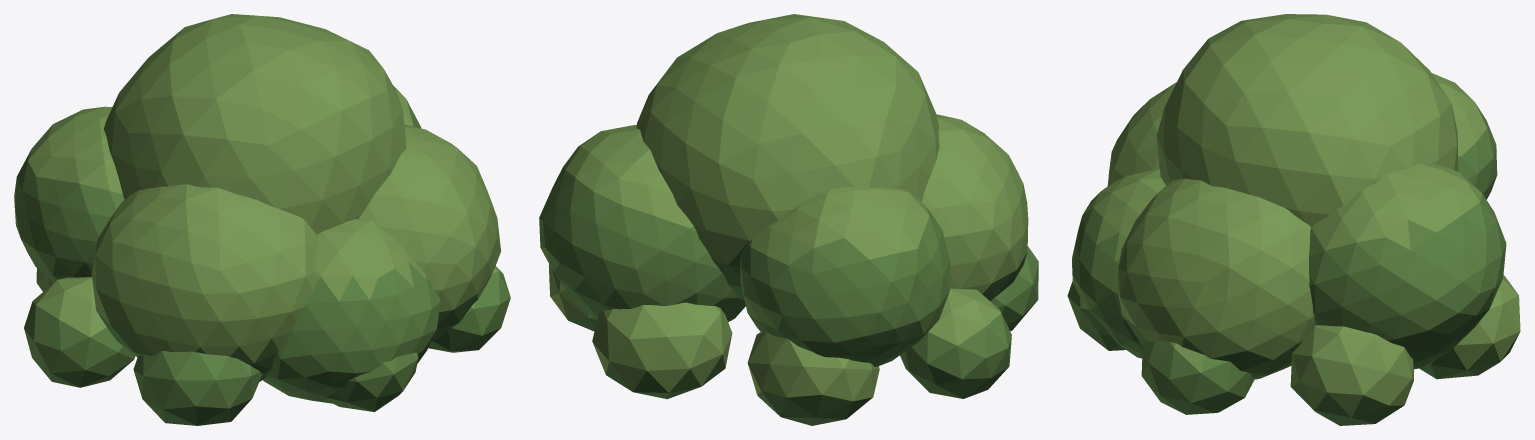
File: Bush.fbx
3 views of the same model, side by side, from view 1: azimuth 30°, elevation 25°; view 2: azimuth 150°, elevation 25°; view 3: azimuth 270°, elevation 25° (orthographic).
Parts seen in each view (by area): view 1: Bush_Mesh; view 2: Bush_Mesh; view 3: Bush_Mesh.
Boxes of the visible parts, x1,y1,x2,y2 form: Bush_Mesh: (14, 14, 510, 425); Bush_Mesh: (539, 14, 1038, 425); Bush_Mesh: (1067, 14, 1520, 425).
Bounding box in the file's own units: 1.75 × 1.2 × 1.58.
